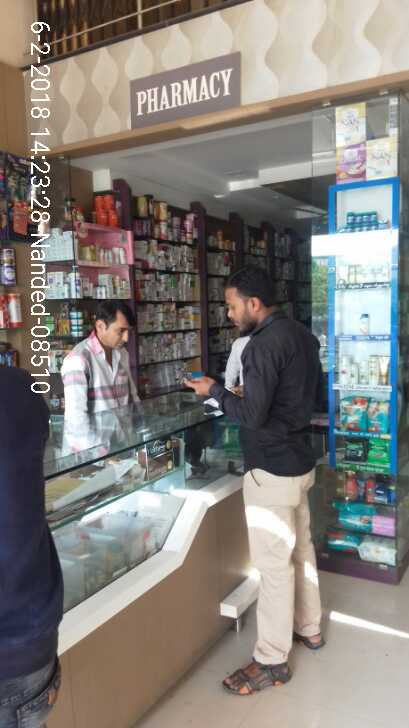vicks: (338, 211, 391, 231)
